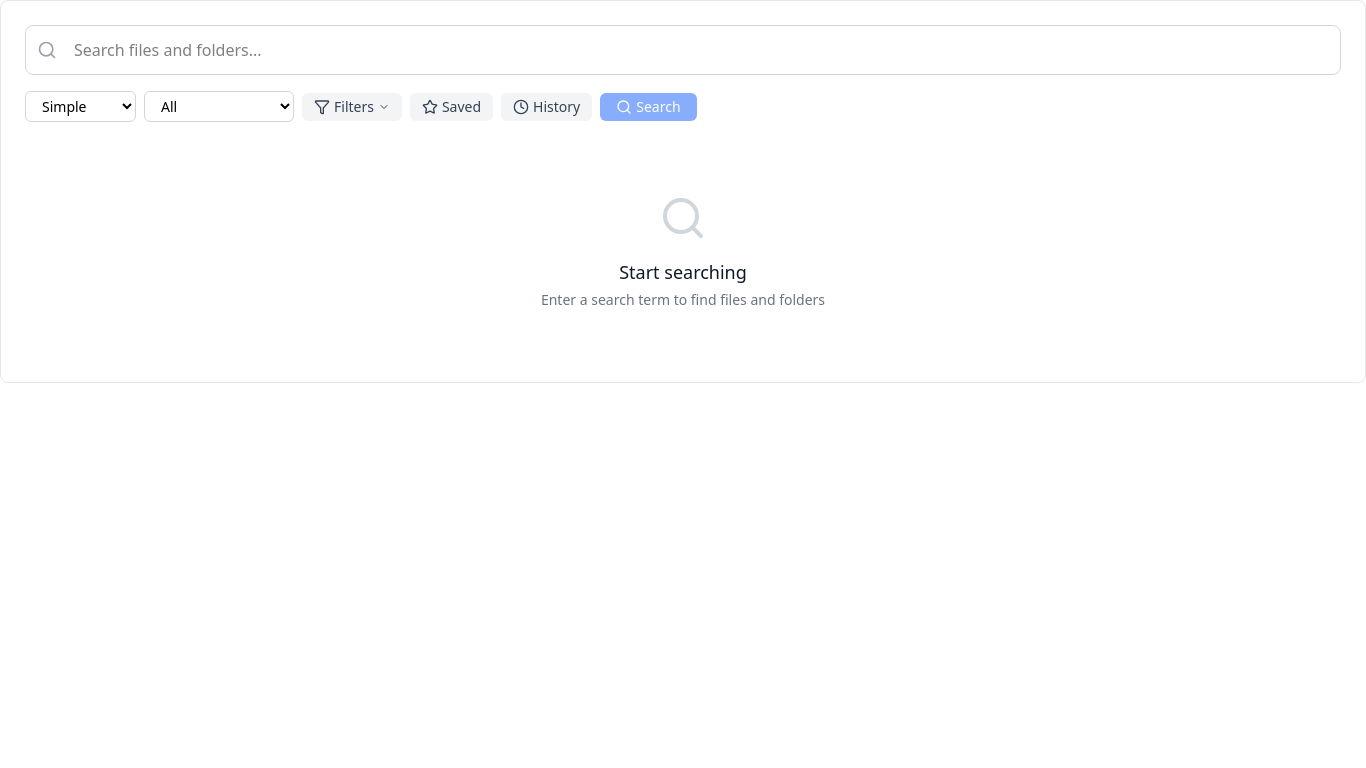
SearchInterface › Search Controls › toggles saved searches panel
This screenshot has width=1366, height=768.
Click the button "Saved".
click(452, 106)  # box 410,92 -> 493,120
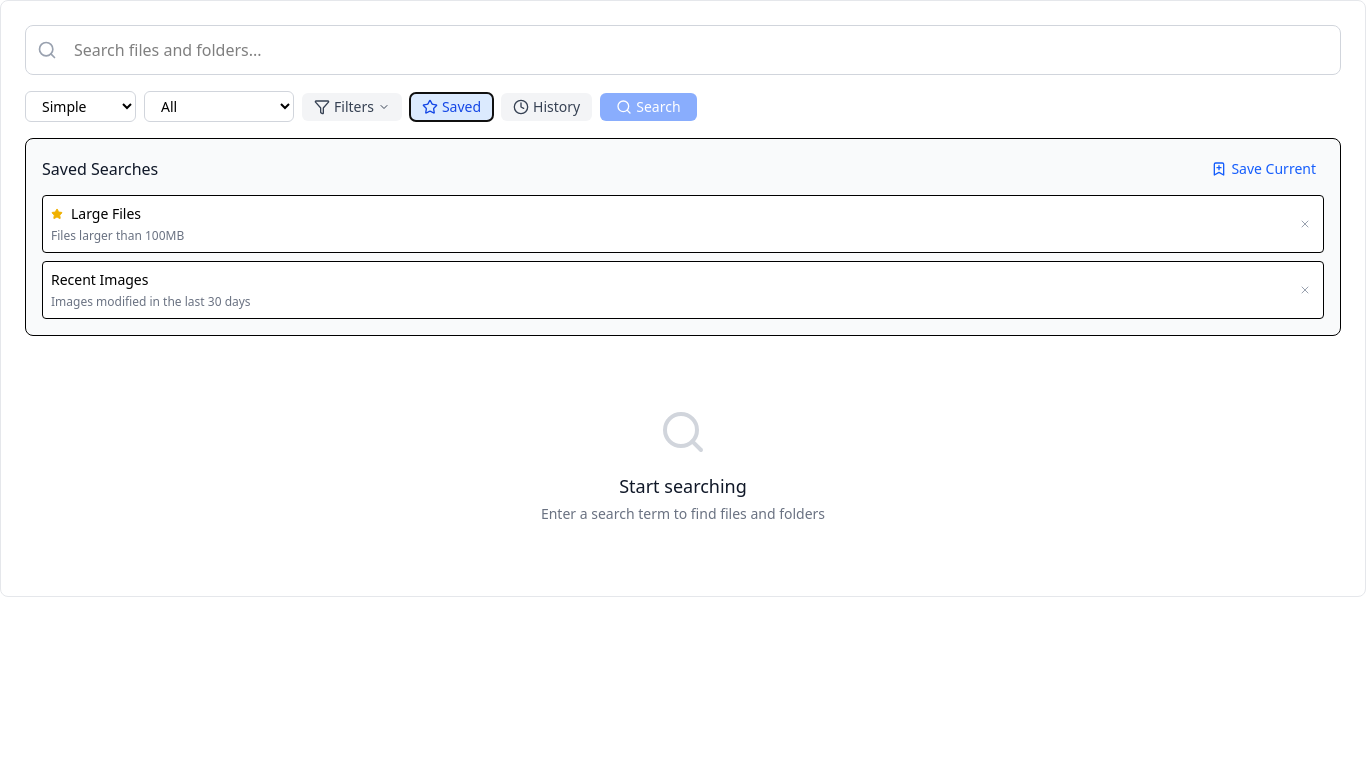
expect the heading "Saved Searches" is shown: met, box 42,157 -> 158,181
